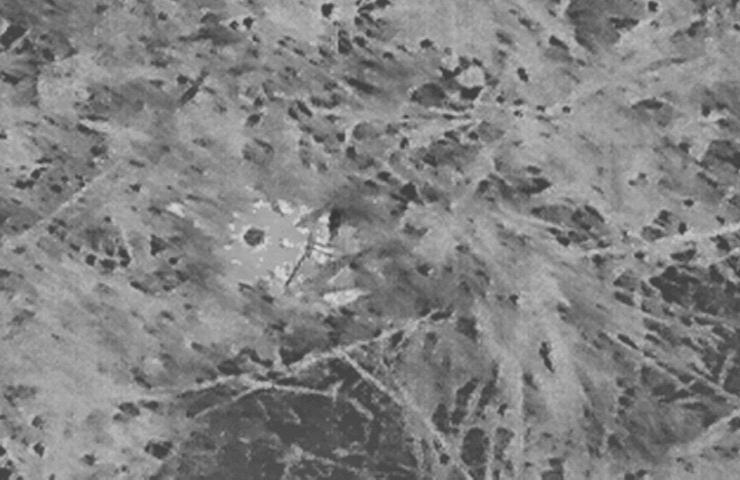landmines: (209, 194, 383, 320)
